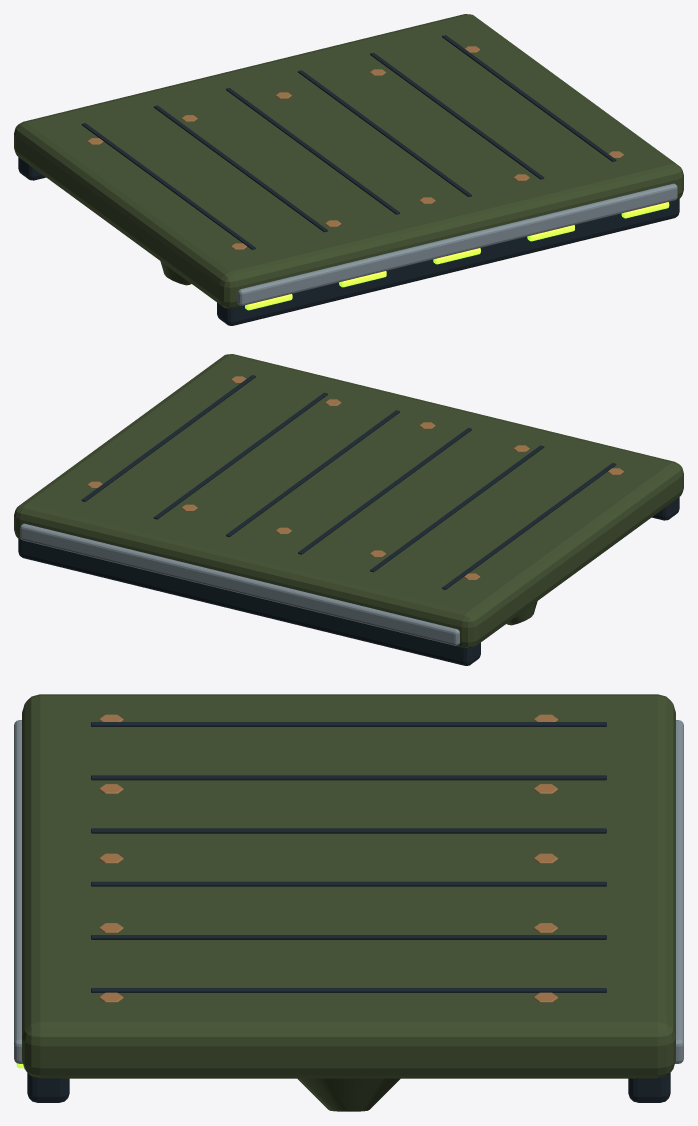
File: traverse_ledge.glb
3 views of the same model, one above another, from view 1: azimuth 30°, elevation 25°; view 2: azimuth 150°, elevation 25°; view 3: azimuth 270°, elevation 25° (orthographic). The views are drawn at different scales.
Visible parts, largest first — view 1: traverse_ledge; view 2: traverse_ledge; view 3: traverse_ledge.
Boxes of the visible parts, x1=… form: traverse_ledge: x1=14, y1=14, x2=683, y2=325; traverse_ledge: x1=14, y1=354, x2=683, y2=665; traverse_ledge: x1=14, y1=694, x2=683, y2=1111.
Bounding box in the file's own units: 3.98 × 1.13 × 3.3.
